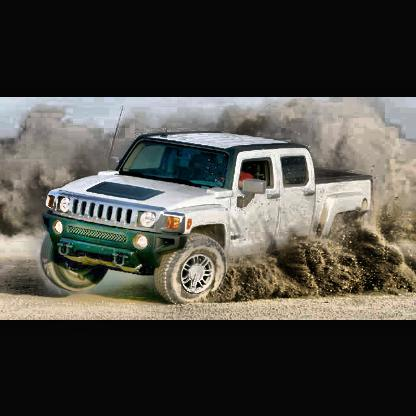HUMMER H3T Crew Cab 2010: (42, 130, 372, 304)
